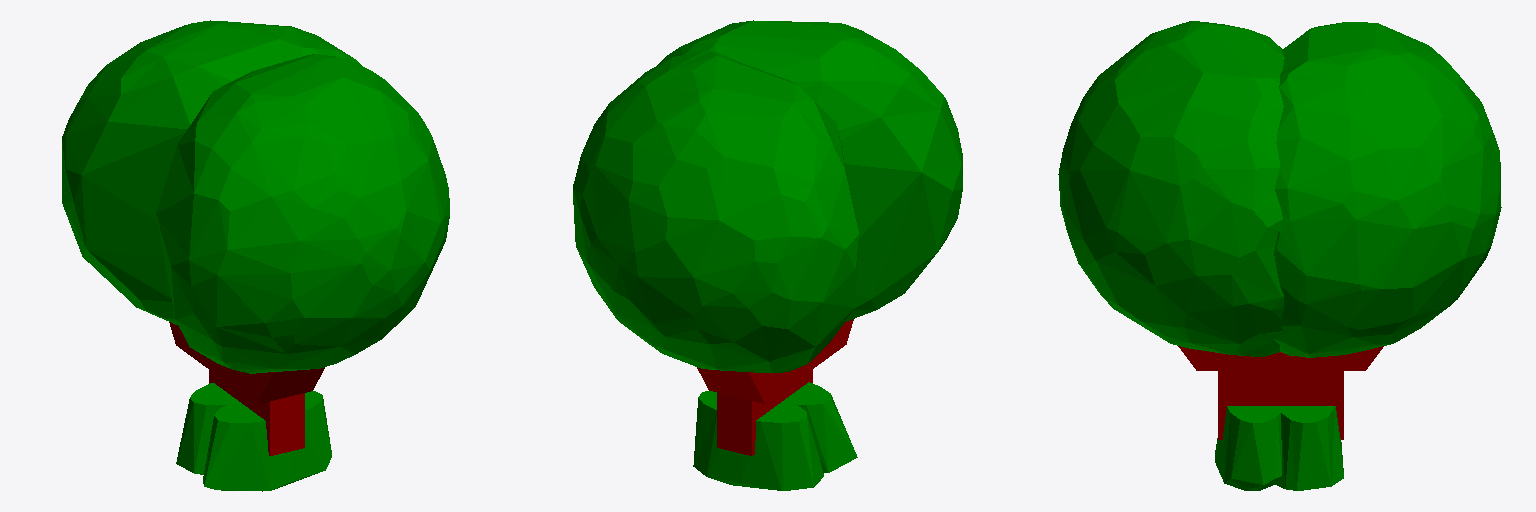
robot.urdf — talos_trunk:
<?xml version="1.0" ?>
<robot name="talos_trunk" xmlns:controller="http://playerstage.sourceforge.net/gazebo/xmlschema/#controller" xmlns:interface="http://playerstage.sourceforge.net/gazebo/xmlschema/#interface" xmlns:sensor="http://playerstage.sourceforge.net/gazebo/xmlschema/#sensor" xmlns:xacro="http://ros.org/wiki/xacro">

  <link name="torso_2_link">
    <inertial>
      <origin rpy="0.00000 0.00000 0.00000" xyz="-0.04551 -0.00053 0.16386"/>
      <mass value="17.55011"/>
      <inertia ixx="0.37376900000" ixy="0.00063900000" ixz="0.01219600000" iyy="0.24790200000" iyz="0.00000700000" izz="0.28140400000"/>
    </inertial>
    <visual>
      <origin rpy="0 0 0" xyz="0 0 0"/>
      <geometry>
        <mesh filename="package://talos-rbprm/meshes/talos_trunk_upper_visual.dae" scale="1 1 1"/>
      </geometry>
    </visual>
    <collision>
      <origin rpy="0 0 0" xyz="0 0 0"/>
      <geometry>
        <mesh filename="package://talos-rbprm/meshes/talos_trunk_upper.stl" scale="1 1 1"/>
      </geometry>
    </collision>
  </link>
  <!--************************-->
  <!--        TORSO_1  (PAN)  -->
  <!--************************-->
  <link name="torso_1_link">
  </link>
  <joint name="torso_1_joint" type="revolute">
    <parent link="base_link"/>
    <child link="torso_1_link"/>
    <origin rpy="0.0 0.0 0.0" xyz="0.0 0.0 0.0722"/>
    <axis xyz="0 0 1"/>
    <limit effort="78.0" lower="-1.25663706144" upper="1.25663706144" velocity="5.4"/>
  </joint>
  <!--************************-->
  <!--        BASE_LINK       -->
  <!--************************-->
  <link name="base_link">
  <inertial>
     <mass value="90.27"/>
     <inertia ixx="1." ixy="0.0" ixz="0.0" iyy="1." iyz="0.0" izz="1."/>
  </inertial>
    <visual>
      <origin rpy="0 0 0" xyz="0 0 0"/>
      <geometry>
        <mesh filename="package://talos-rbprm/meshes/talos_trunk_lower_visual_large_reducedROM.dae" scale="1 1 1"/>
      </geometry>
    </visual>
    <collision>
      <origin rpy="0 0 0" xyz="0 0 0"/>
      <geometry>
        <mesh filename="package://talos-rbprm/meshes/talos_trunk_lower_large.stl" scale="1 1 1"/>
      </geometry>
    </collision>
  </link>
  <joint name="torso_2_joint" type="revolute">
    <parent link="torso_1_link"/>
    <child link="torso_2_link"/>
    <origin rpy="0.0 0.0 0.0" xyz="0.0 0.0 0.0"/>
    <axis xyz="0 1 0"/>
    <limit effort="78.0" lower="-0.226892802759" upper="0.733038285838" velocity="5.4"/>
  </joint>
  <!-- define global properties -->
  <!-- <xacro:property name="M_PI" value="3.1415926535897931" /> -->
  <!-- Materials for visualization -->
  <material name="Blue">
    <color rgba="0.0 0.0 0.8 1.0"/>
  </material>
  <material name="Green">
    <color rgba="0.0 0.8 0.0 1.0"/>
  </material>
  <material name="GreenPale">
    <color rgba="0.0 0.8 0.0 0.01"/>
  </material>
  <material name="Grey">
    <color rgba="0.7 0.7 0.7 1.0"/>
  </material>
  <material name="LightGrey">
    <color rgba="0.9 0.9 0.9 1.0"/>
  </material>
  <material name="DarkGrey">
    <color rgba="0.2 0.2 0.2 1.0"/>
  </material>
  <material name="Red">
    <color rgba="0.8 0.0 0.0 1.0"/>
  </material>
  <material name="White">
    <color rgba="1.0 1.0 1.0 1.0"/>
  </material>
  <material name="Orange">
    <color rgba="1.0 0.5 0.0 1.0"/>
  </material>
</robot>

--- What the picture shows (computed from the rendered views, not written in the file) ---
The picture shows the robot from 3 angles, left to right: view 1: azimuth 30°, elevation 25°; view 2: azimuth 150°, elevation 25°; view 3: azimuth 270°, elevation 25°; orthographic projection.
Robot: talos_trunk — 3 links, 2 joints (2 revolute); root link base_link; default pose: all joints at 0.
Links seen in each view (by area): view 1: torso_2_link, base_link; view 2: torso_2_link, base_link; view 3: torso_2_link, base_link.
Boxes of the visible links, bbox=[...] form: torso_2_link: bbox=[62, 20, 449, 373]; base_link: bbox=[169, 322, 331, 491]; torso_2_link: bbox=[573, 20, 962, 373]; base_link: bbox=[693, 319, 857, 490]; torso_2_link: bbox=[1058, 21, 1501, 357]; base_link: bbox=[1178, 346, 1383, 490].
Bounding box of the posed robot: 1.65 × 2.11 × 2.28 m (x, y, z).
Meshes: 2 distinct files referenced, 2 mesh visuals loaded (2 Collada DAE).